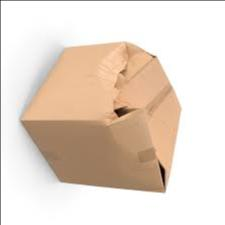damage_box: (19, 39, 184, 194)
